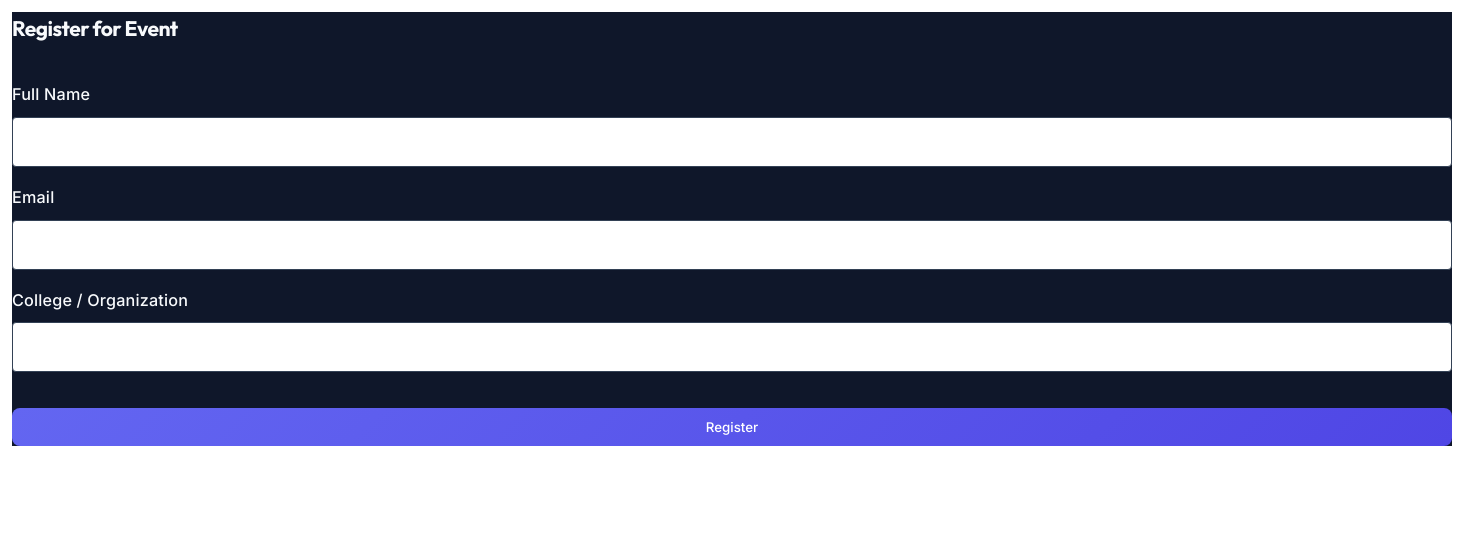
RegistrationForm › displays error on registration failure
The image size is (1464, 534).
Type "John" into the field labelled "Full Name" at (732, 142), box x1=12 y1=117 x2=1452 y2=167
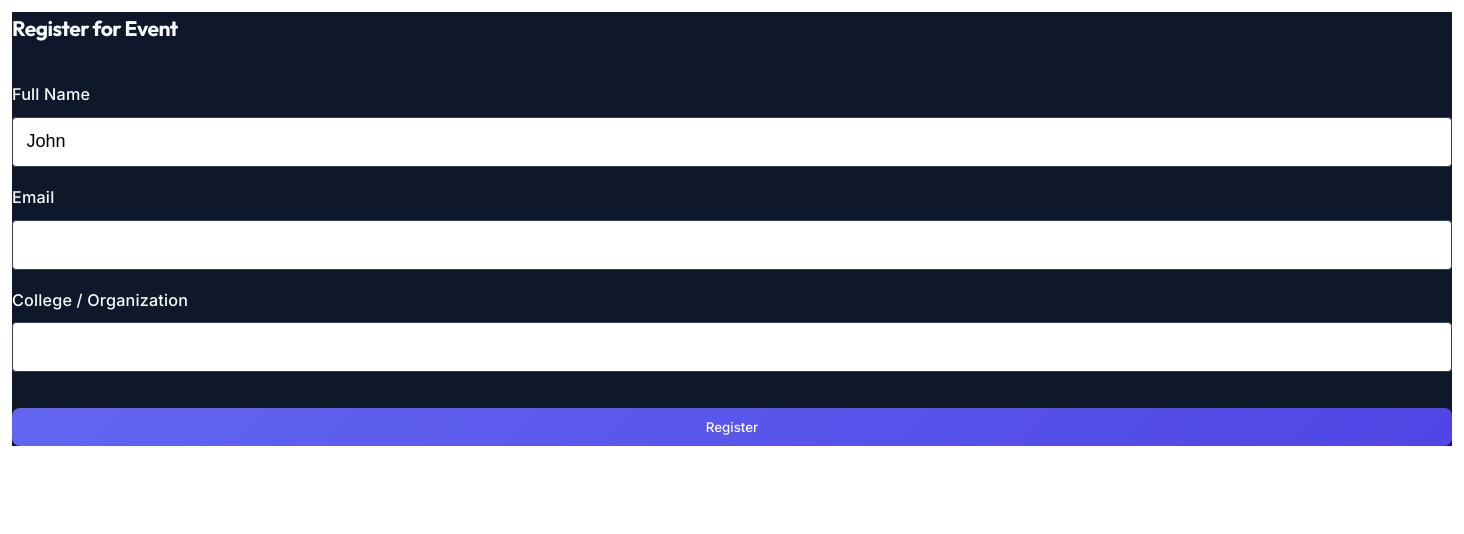
Type "john@example.com" into the field labelled "Email" at (732, 244), box x1=12 y1=220 x2=1452 y2=270
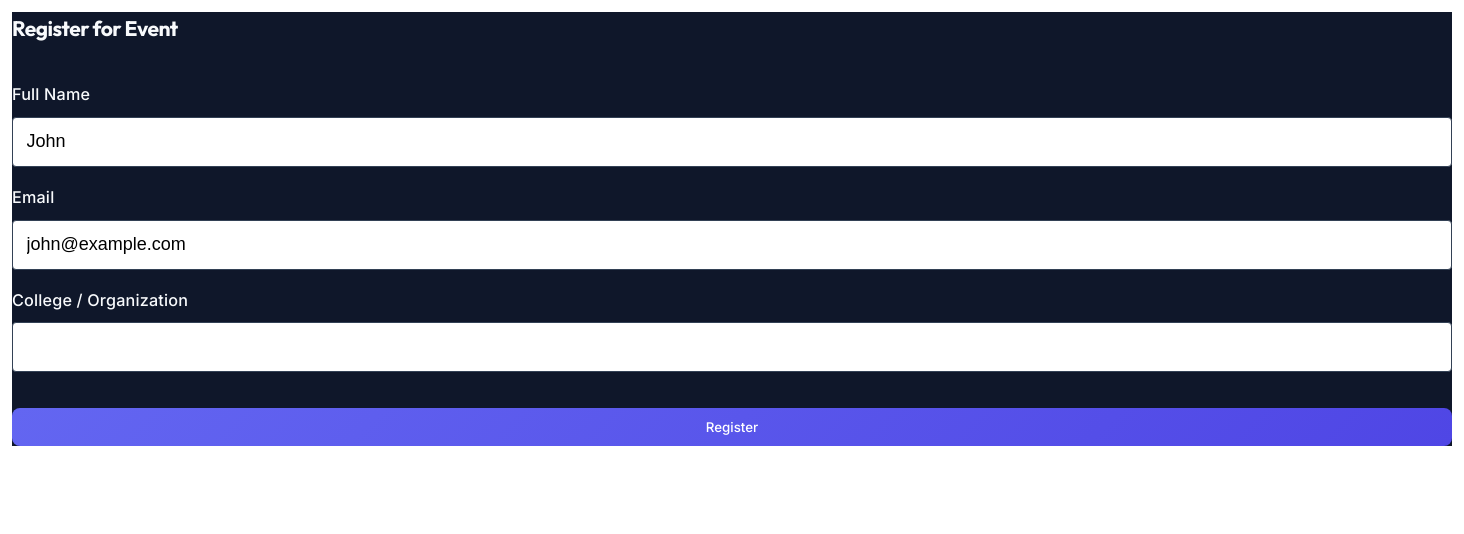
Type "MIT" into the field labelled "College / Organization" at (732, 348), box x1=12 y1=322 x2=1452 y2=372
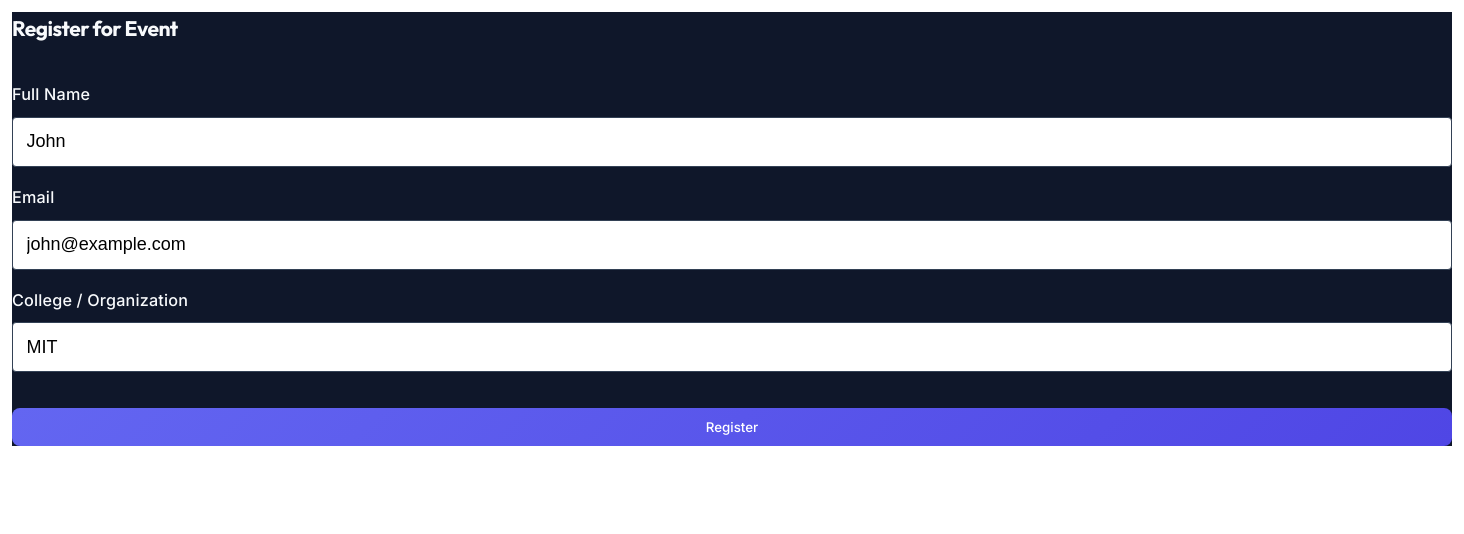
Click the button "Register" at (732, 427), box x1=12 y1=408 x2=1452 y2=446
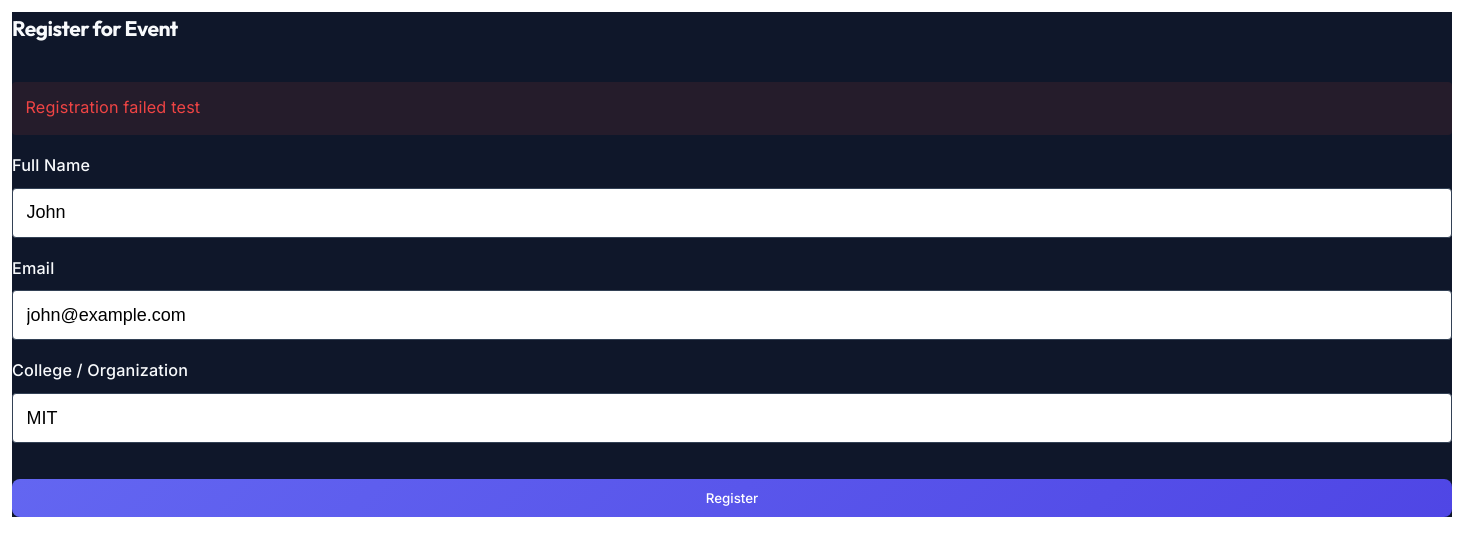
Expected: the text "Registration failed test" is shown, x1=12 y1=82 x2=1452 y2=135
